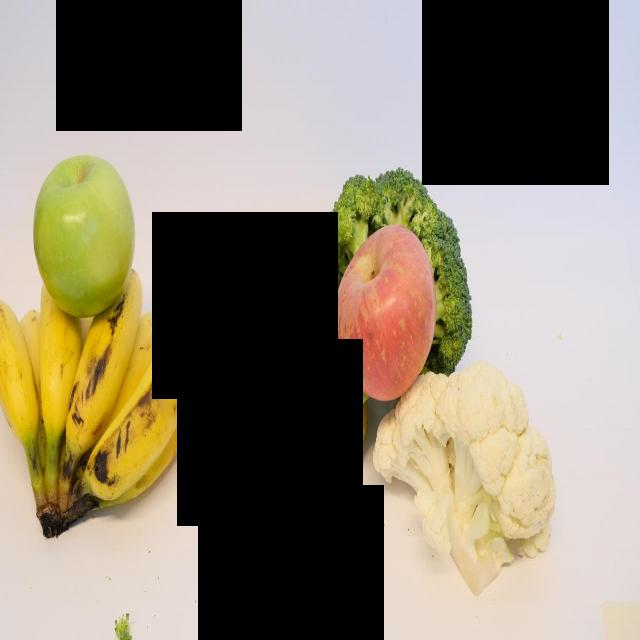apple: (30, 143, 135, 315), (338, 221, 438, 401)
banana: (230, 254, 368, 463), (88, 318, 196, 514), (63, 270, 140, 466), (40, 272, 82, 439), (0, 301, 41, 454)
broccoli: (330, 169, 474, 371)
cauliflower: (372, 374, 556, 578)
tomato: (217, 325, 295, 449)
